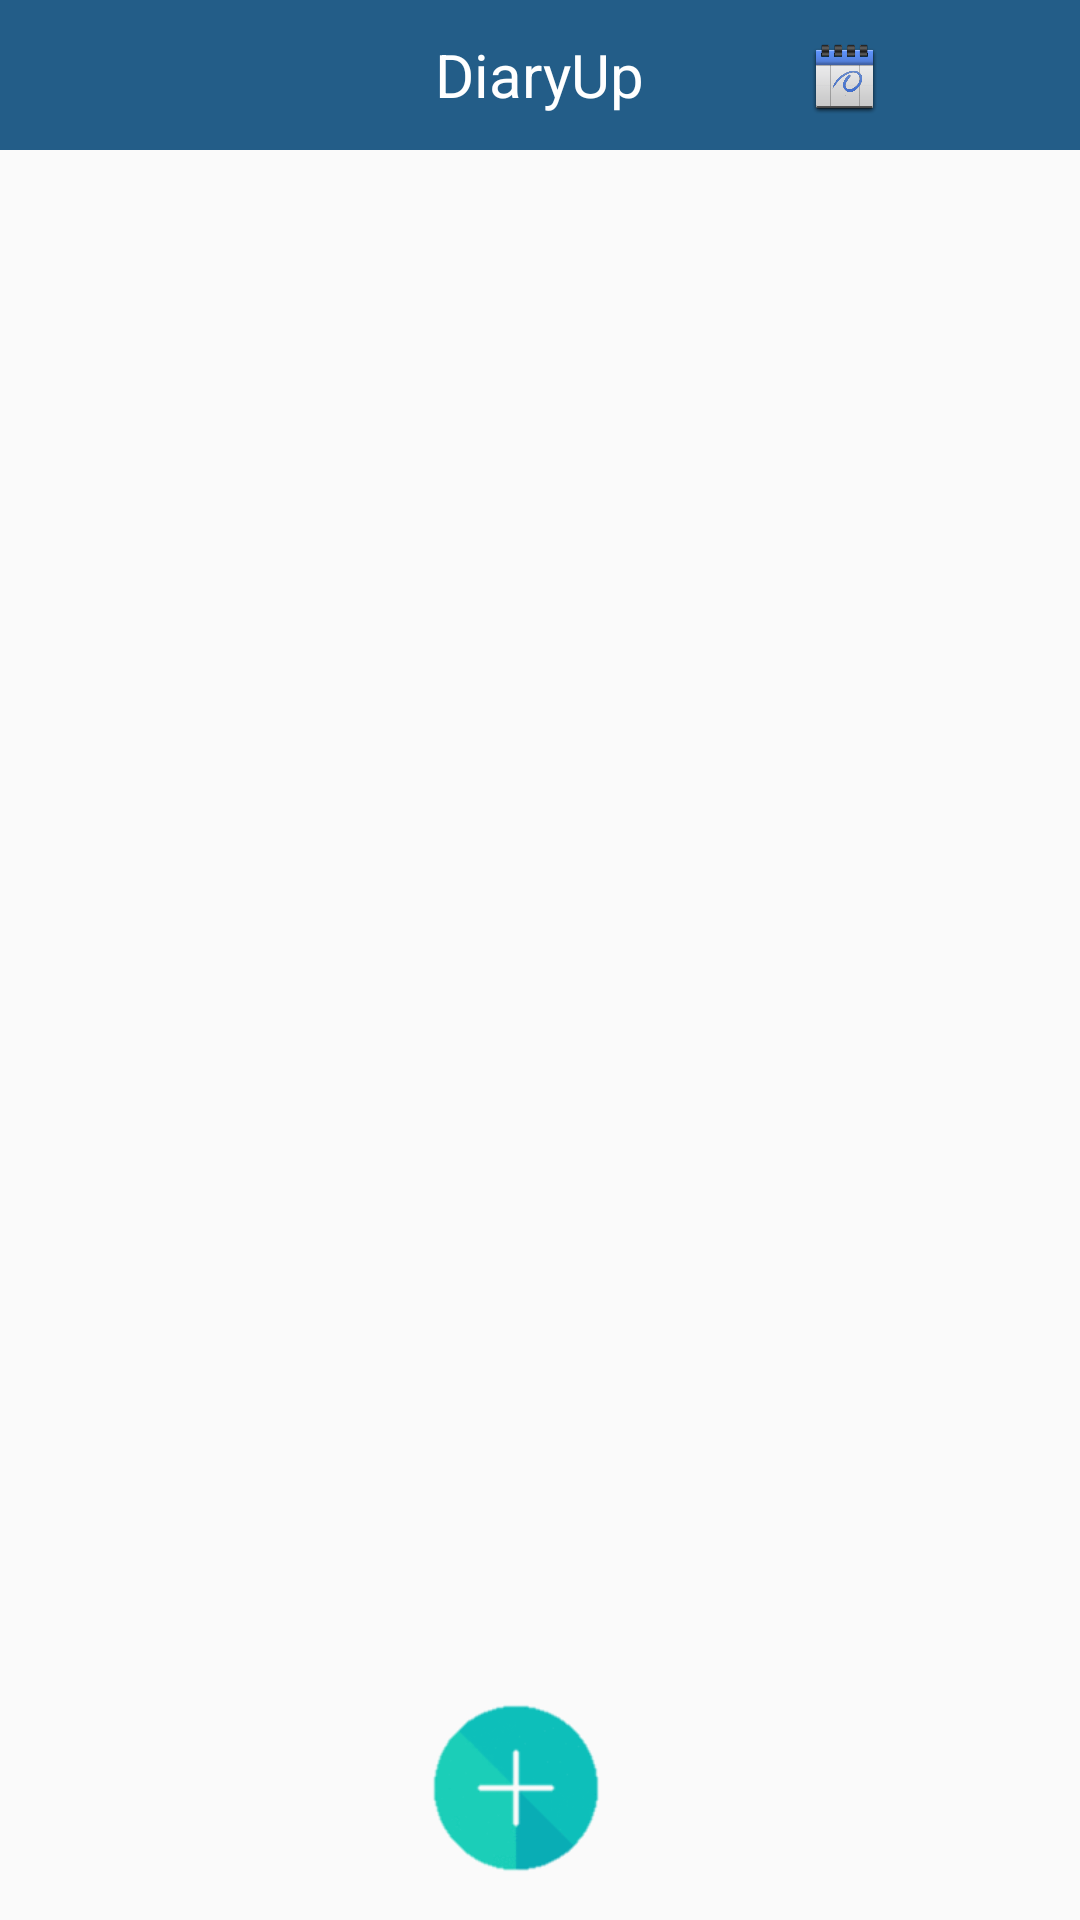

Icon bounding boxes for this 1080×1920 phone screenshot, format Rect(x1, y1, x2, y2):
add: Rect(433, 1705, 599, 1871)
